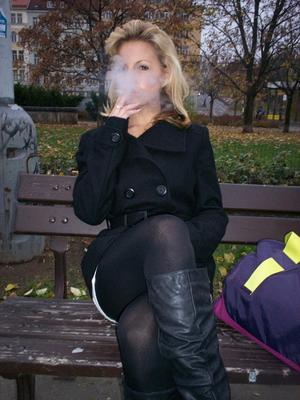person: (67, 15, 232, 400)
